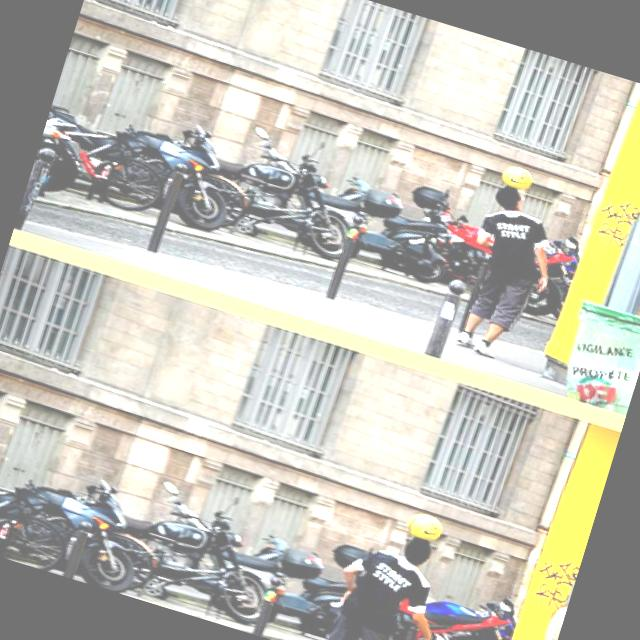Vehicle: (109, 472, 294, 628), (193, 112, 374, 268), (0, 427, 162, 595), (117, 110, 250, 235), (382, 182, 503, 296), (234, 532, 354, 636), (26, 112, 96, 205), (524, 235, 582, 324), (407, 594, 508, 640)
